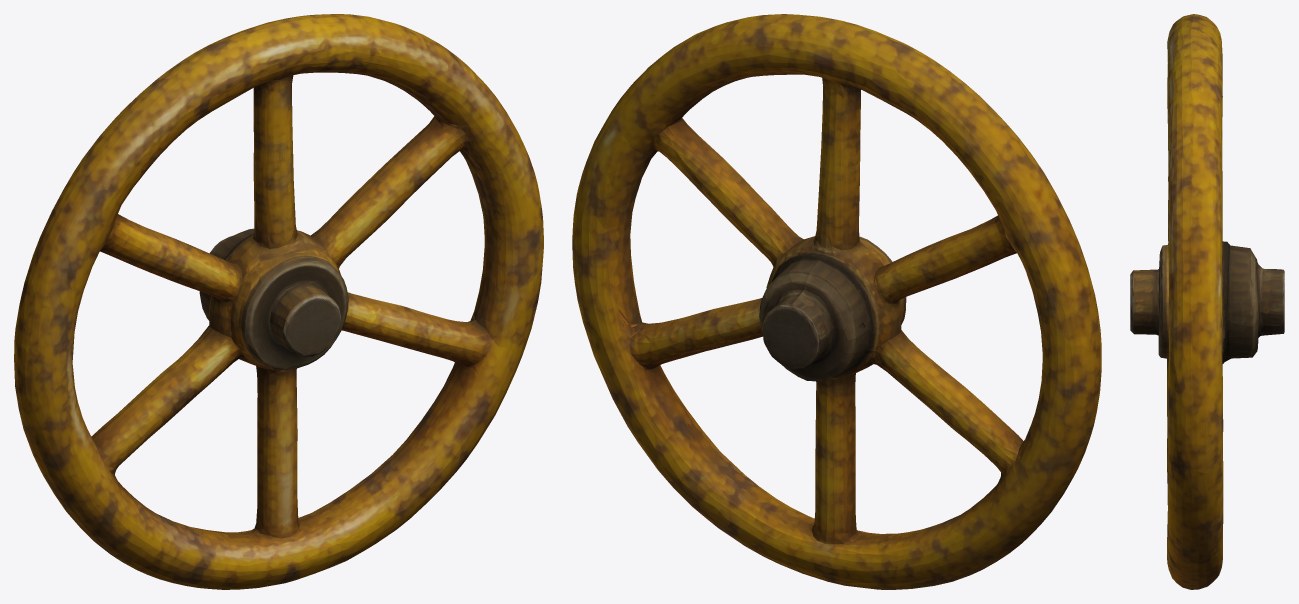
The picture shows the model from 3 angles, left to right: view 1: azimuth 30°, elevation 25°; view 2: azimuth 150°, elevation 25°; view 3: azimuth 270°, elevation 25°; orthographic projection. The views are drawn at different scales.
Visible parts, largest first — view 1: geometry_0; view 2: geometry_0; view 3: geometry_0.
Part boxes in pixels (x1=…): geometry_0: x1=14, y1=14, x2=543, y2=589; geometry_0: x1=572, y1=14, x2=1101, y2=589; geometry_0: x1=1130, y1=14, x2=1284, y2=589.
Size of the model in its own units: 0.978 by 0.9995 by 0.2667.
Materials: 1 (1 with a texture image).
